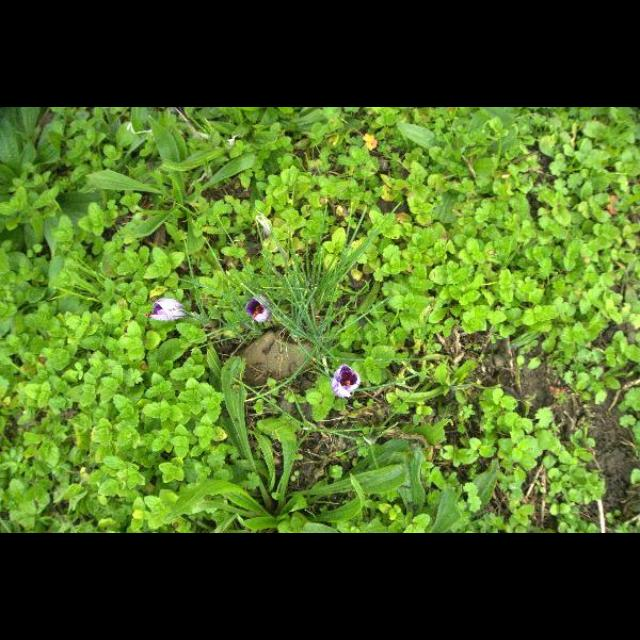flower: (331, 364, 361, 400), (148, 298, 182, 324), (244, 297, 272, 323)
